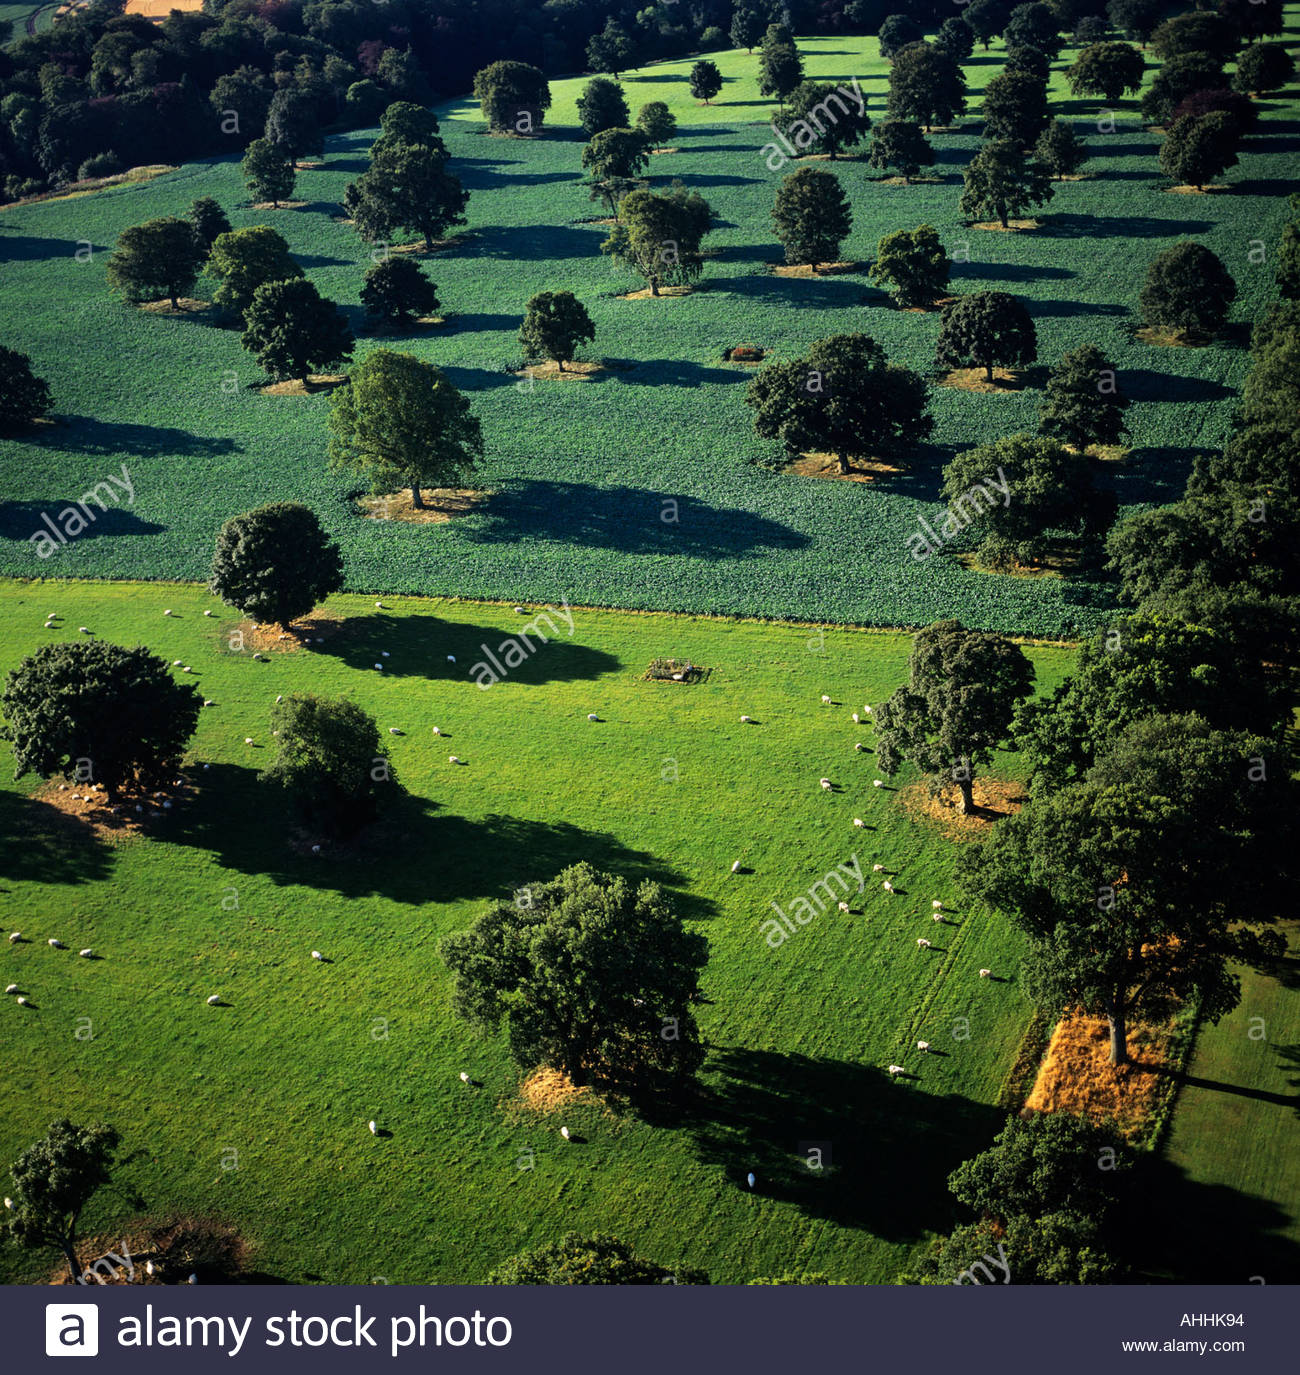sheep: (882, 875, 896, 895), (887, 1065, 907, 1076), (728, 860, 743, 874), (16, 994, 28, 1010), (206, 995, 224, 1006), (872, 862, 886, 875), (918, 1040, 932, 1052), (745, 1171, 756, 1187), (979, 968, 995, 979), (389, 726, 404, 737), (560, 1124, 571, 1139), (916, 936, 930, 947), (853, 816, 866, 827), (369, 1120, 379, 1134), (242, 736, 257, 746), (312, 950, 323, 962), (932, 912, 944, 923), (838, 901, 850, 912), (446, 653, 458, 664), (822, 693, 832, 706), (446, 754, 459, 764), (250, 651, 264, 661), (5, 984, 20, 992), (737, 715, 751, 724), (586, 713, 601, 721), (459, 1072, 470, 1083), (79, 948, 95, 956), (9, 930, 20, 940), (202, 607, 213, 617), (48, 937, 57, 947), (78, 626, 90, 633), (374, 662, 382, 672), (855, 742, 864, 750), (44, 620, 53, 627), (162, 609, 172, 615)
